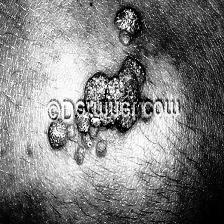Toxin: (75, 57, 150, 166), (114, 4, 144, 46), (46, 118, 68, 152)
